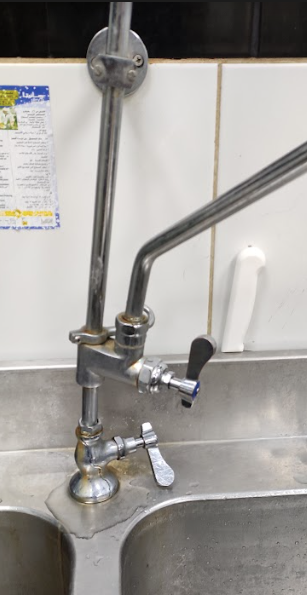Deck Faucet: (39, 1, 249, 523)
